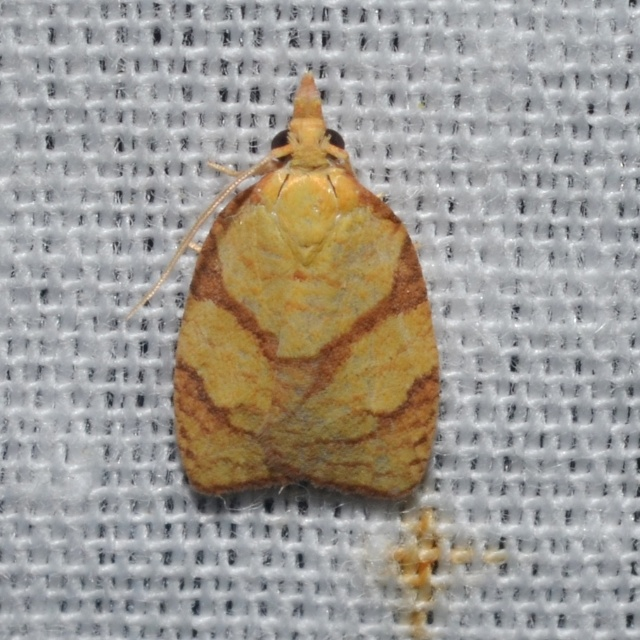Moths and butterflies: (120, 72, 442, 500)
